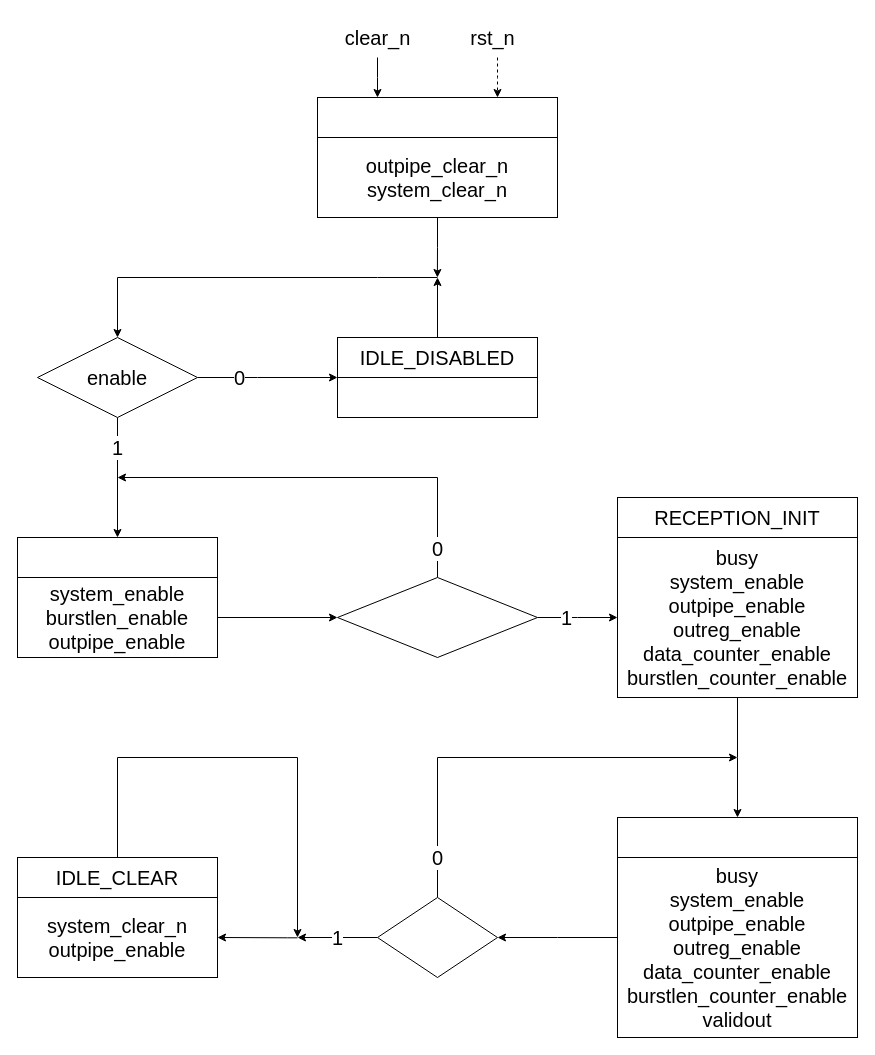
This 875x1055 diagram has some shape labels left out. Each missing label, with the box of its shape:
burst_end: (376, 896, 498, 978)
IDLE: (16, 536, 218, 578)
RECEPTION: (616, 816, 858, 858)
RESET: (316, 96, 558, 138)
start_sampling: (336, 576, 538, 658)
